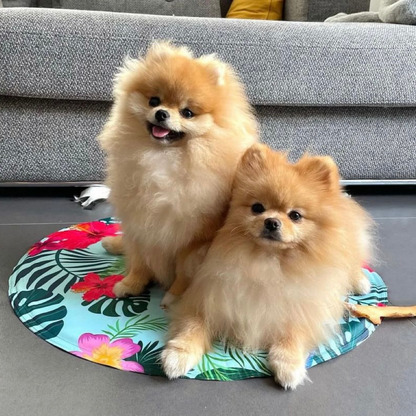Pomeranian: (89, 27, 260, 302), (196, 142, 359, 395)
